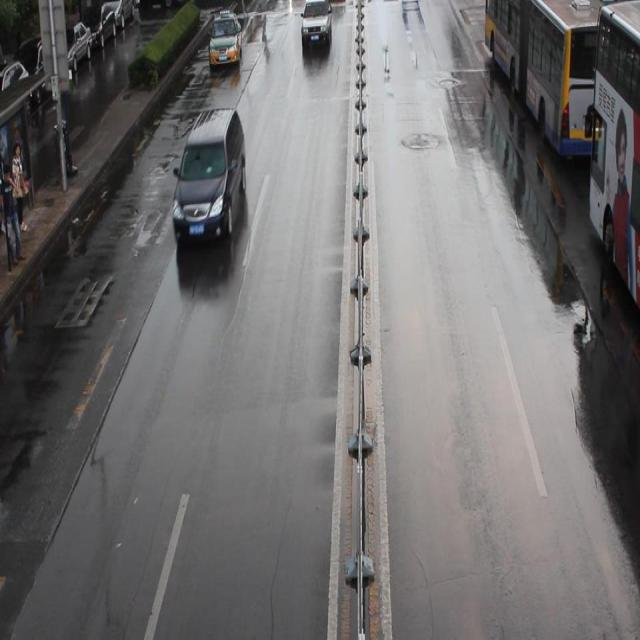car: (208, 10, 242, 68), (301, 2, 332, 48)
truck: (172, 108, 244, 249)
van: (483, 1, 625, 158), (586, 1, 640, 308)
